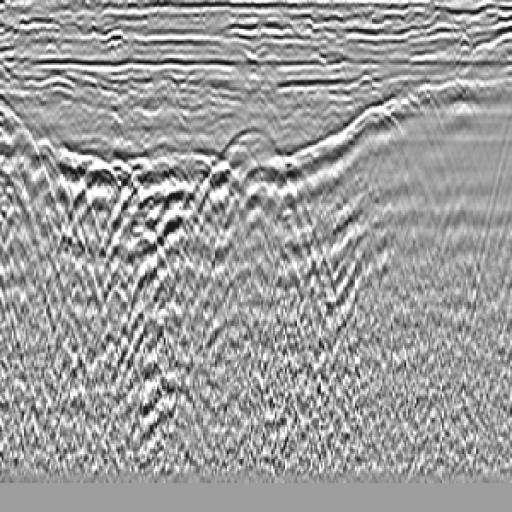metalic: (214, 143, 350, 317)
